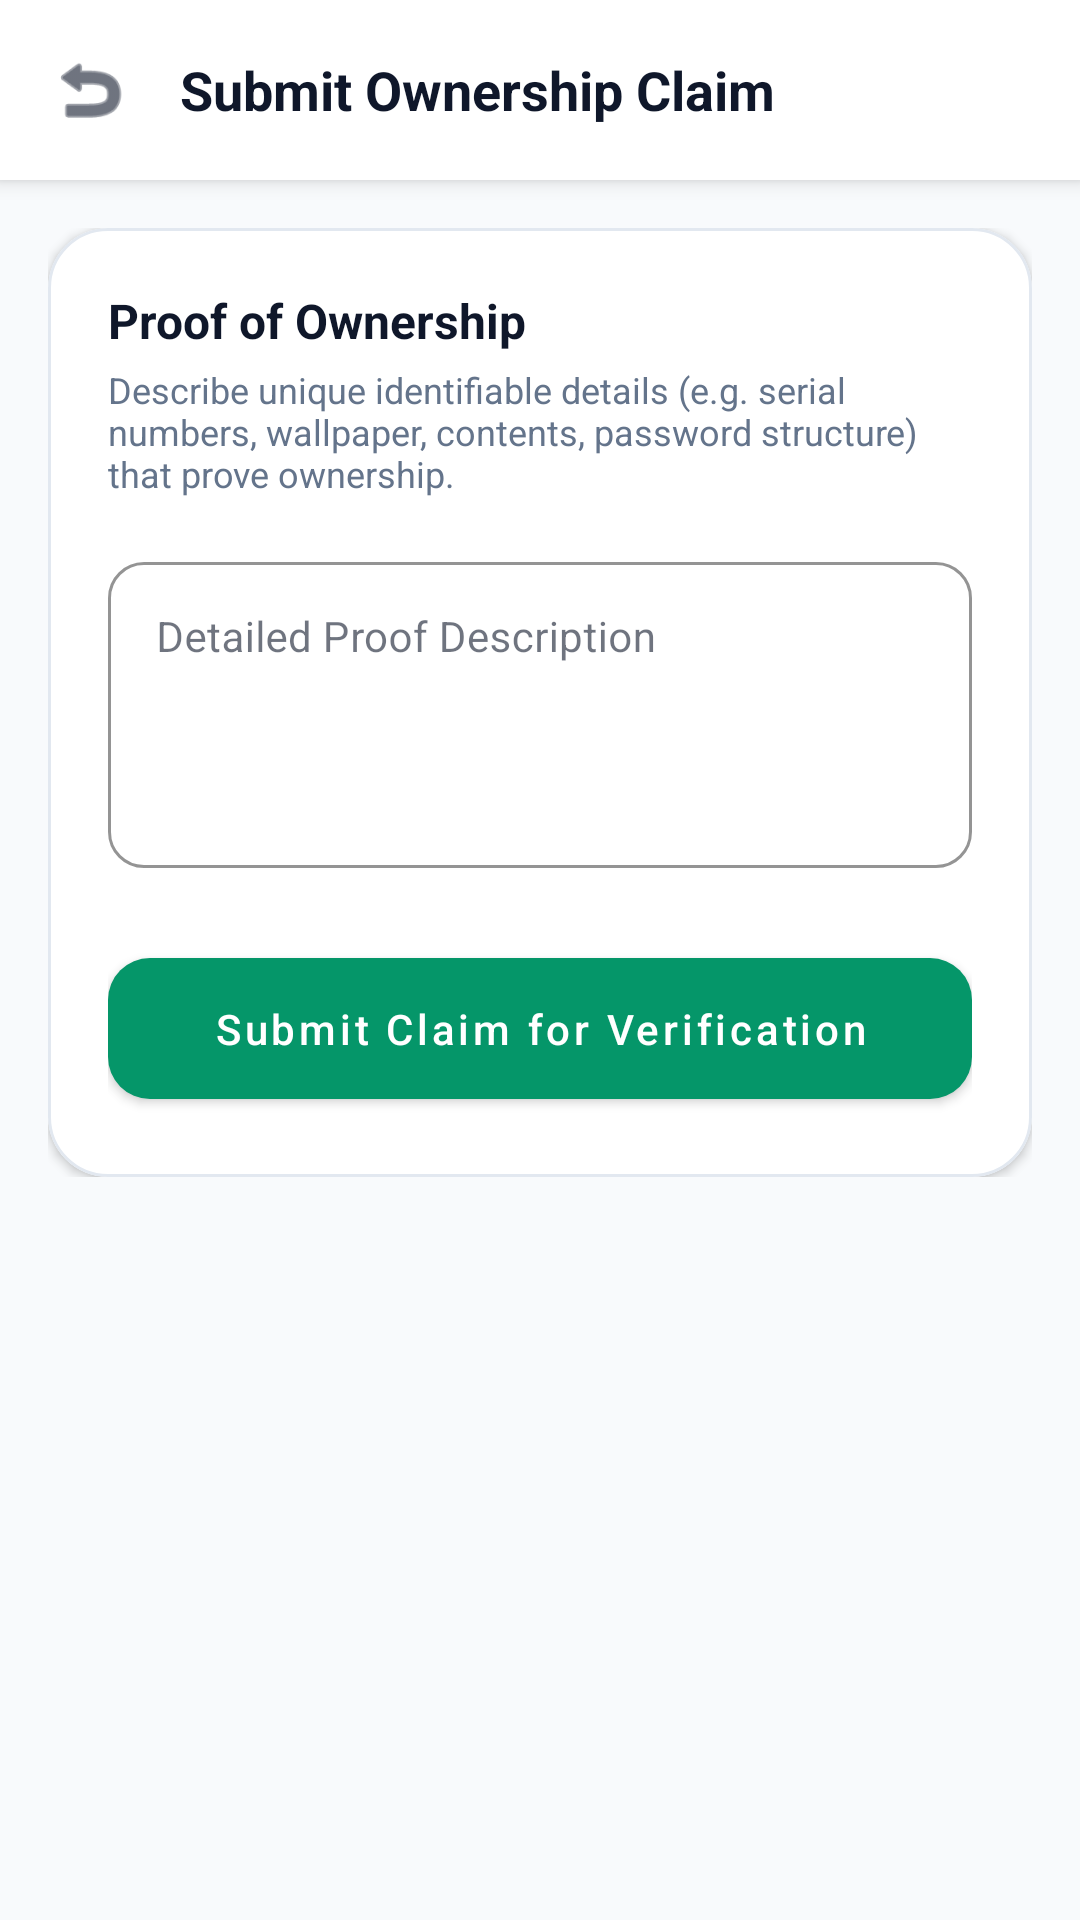

Locate icon controls on the screen. Image size 1080px x 1920px, boxes as (x1, y1, x2, y2).
revert: (61, 63, 121, 118)
